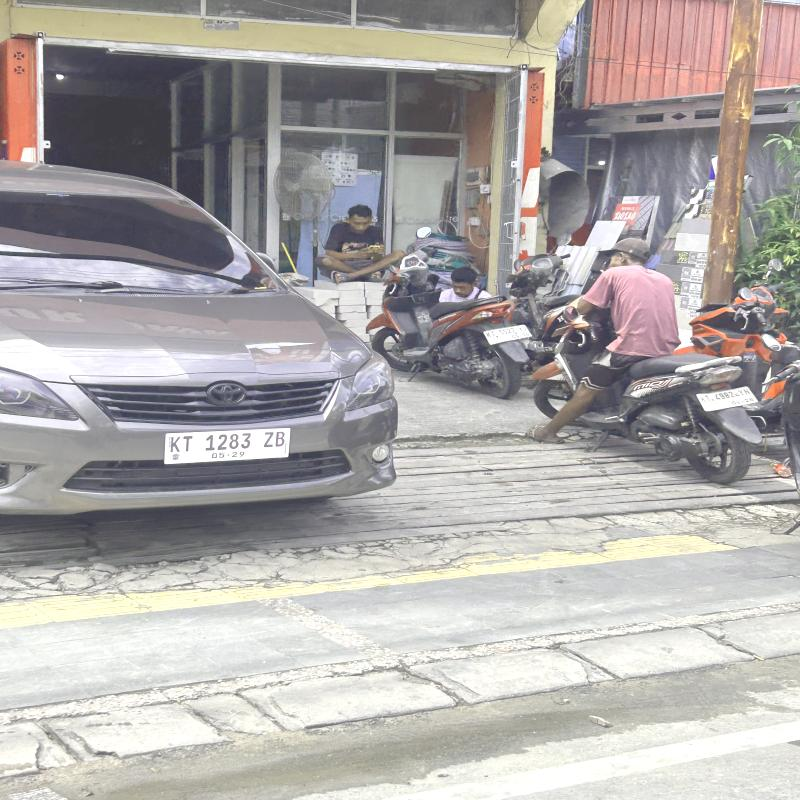license plate on a car: (164, 428, 290, 463)
